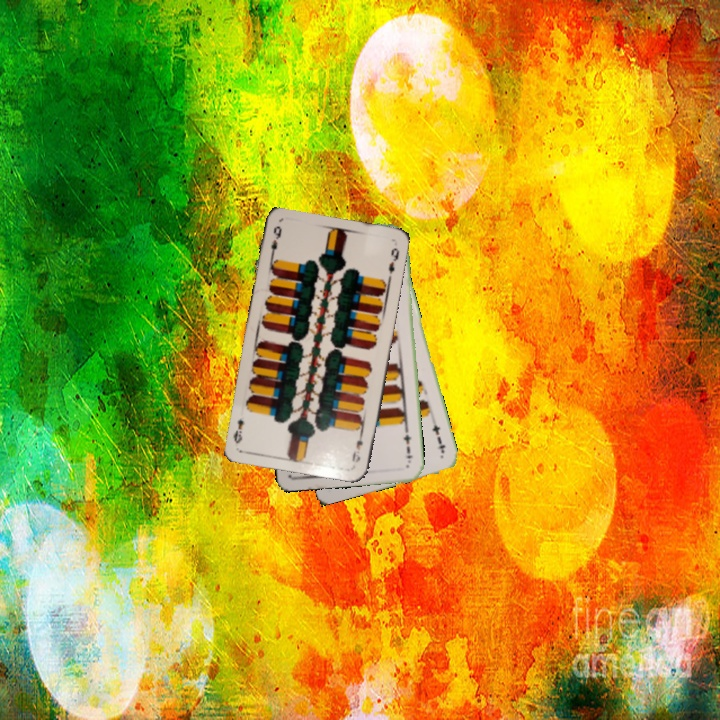E7: (428, 420, 448, 456), (400, 426, 416, 466)
E9: (266, 222, 284, 262), (348, 427, 366, 465)
